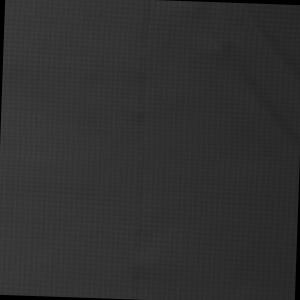Wrinkle: (182, 3, 300, 157)
